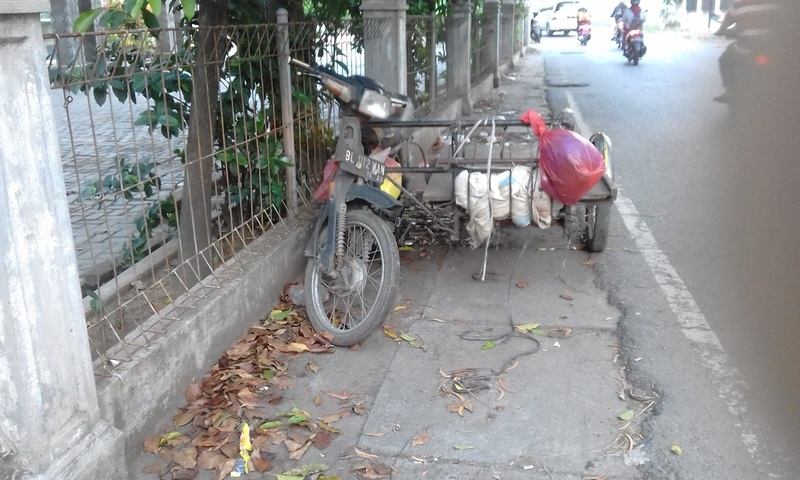becak barang: (283, 50, 623, 355)
